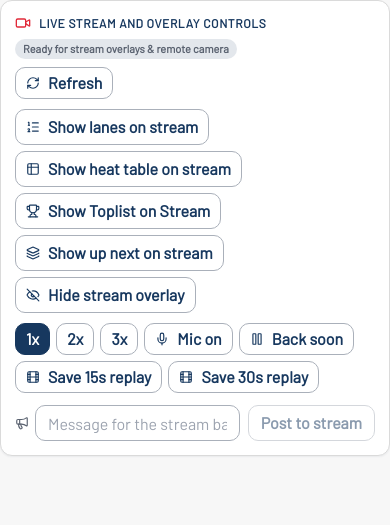
Test case: TvKioskPage › handles offline stream list and scorer client mode in StreamControlStrip
Expected: the text "Ready for stream overlays & remote camera" is shown, [15,39,237,59]
Click the button "Show lanes on stream": (112, 127) [15,109,209,145]
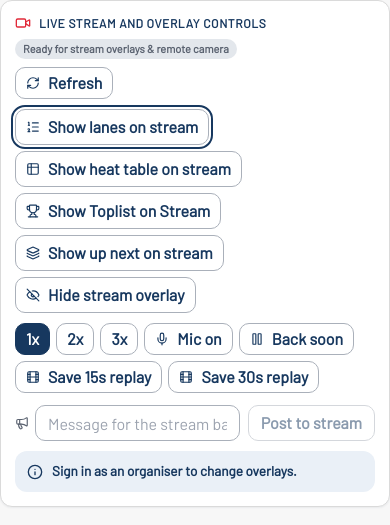
Expected: the message reads "Sign in as an organiser to change overlays.", [52,462,297,479]
